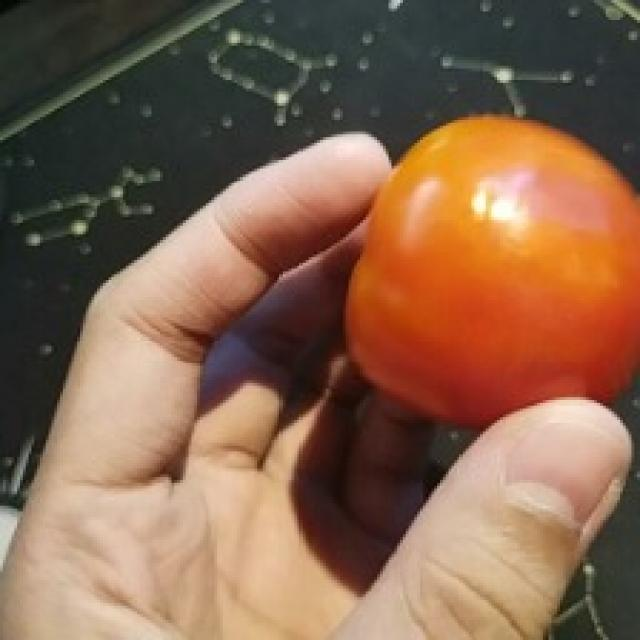Fresh Tomato: (330, 104, 640, 462)
